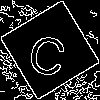C: (25, 25, 71, 78)
